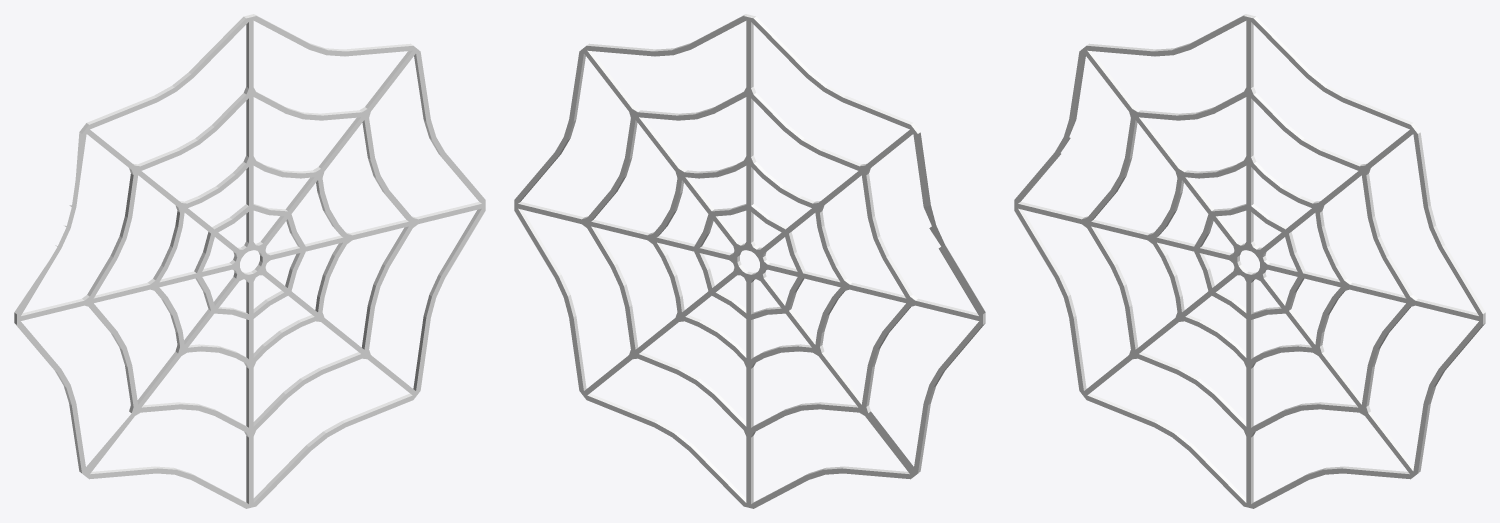
Rendered from spider_web.gltf.
3 renders of one model, left to right at view 1: azimuth 30°, elevation 25°; view 2: azimuth 150°, elevation 25°; view 3: azimuth 330°, elevation 25°, orthographic.
Parts seen in each view (by area): view 1: Circle.2005; view 2: Circle.2005; view 3: Circle.2005.
Boxes of the visible parts, x1=… form: Circle.2005: x1=14, y1=14, x2=485, y2=508; Circle.2005: x1=514, y1=14, x2=985, y2=508; Circle.2005: x1=1014, y1=14, x2=1485, y2=508.
Size of the model in its own units: 2.33 by 2.33 by 0.0234.
Materials: 1 (1 with a texture image).
